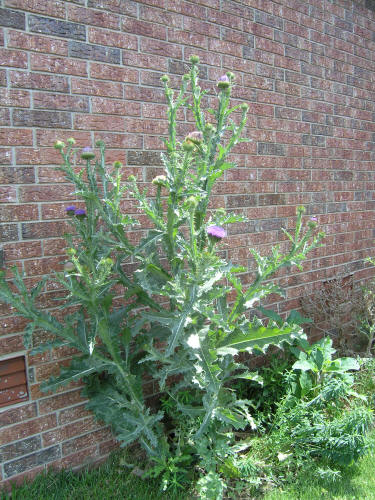thistle: (209, 72, 235, 97), (204, 225, 232, 247), (64, 206, 88, 226)
